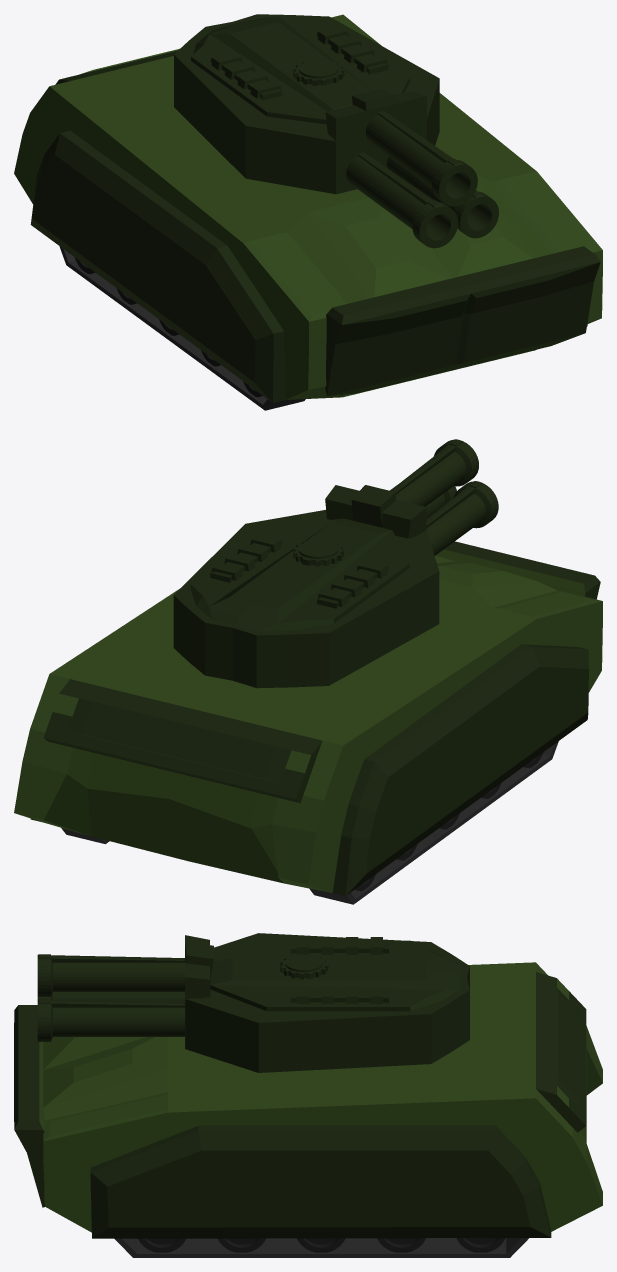
Rendered from tier3.obj.
3 renders of one model, top to bottom at view 1: azimuth 30°, elevation 25°; view 2: azimuth 150°, elevation 25°; view 3: azimuth 270°, elevation 25°, orthographic. The views are drawn at different scales.
Visible parts, largest first — view 1: Body6_Cube.077, Turret6_Cylinder.025, Main_Gun6_Cylinder.026, Tracks6_Cube.075, Road_Wheels6_Cube.076; view 2: Body6_Cube.077, Turret6_Cylinder.025, Main_Gun6_Cylinder.026, Tracks6_Cube.075; view 3: Body6_Cube.077, Turret6_Cylinder.025, Main_Gun6_Cylinder.026, Tracks6_Cube.075, Road_Wheels6_Cube.076.
Boxes of the visible parts, x1,y1,x2,y2 form: Body6_Cube.077: (14,14,602,402); Turret6_Cylinder.025: (174,14,439,194); Main_Gun6_Cylinder.026: (325,89,498,248); Tracks6_Cube.075: (59,246,305,410); Road_Wheels6_Cube.076: (74,257,262,397); Body6_Cube.077: (14,541,602,896); Turret6_Cylinder.025: (173,510,439,688); Main_Gun6_Cylinder.026: (325,439,498,555); Tracks6_Cube.075: (61,741,558,904); Body6_Cube.077: (14,962,602,1238); Turret6_Cylinder.025: (185,933,469,1072); Main_Gun6_Cylinder.026: (37,935,213,1048); Tracks6_Cube.075: (114,1238,528,1257); Road_Wheels6_Cube.076: (138,1238,505,1252).
Bounding box in the file's own units: 4.09 × 3 × 6.59.
